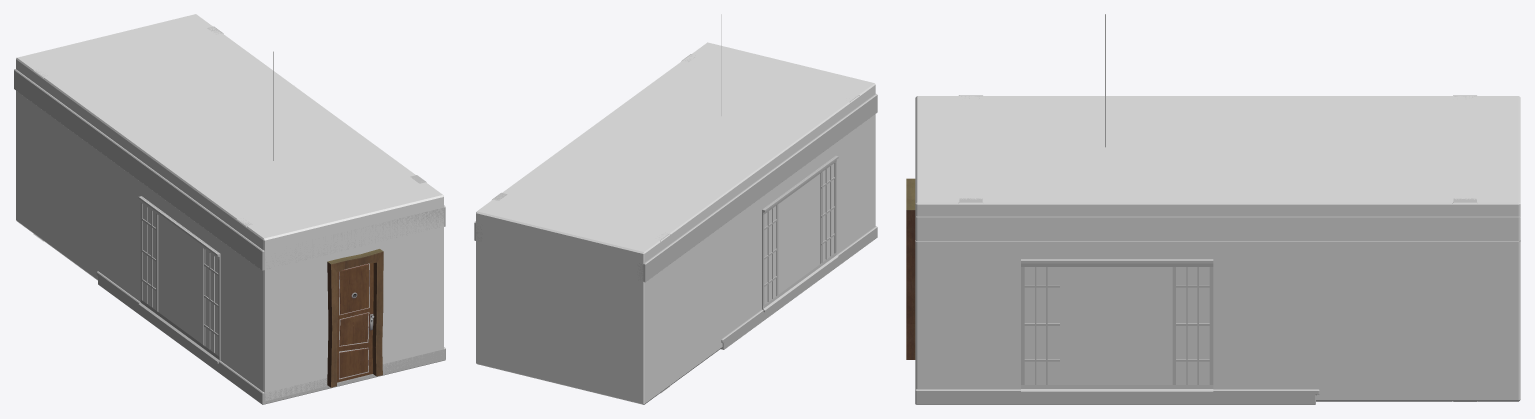
File: Entrance.fbx
3 views of the same model, side by side, from view 1: azimuth 30°, elevation 25°; view 2: azimuth 150°, elevation 25°; view 3: azimuth 270°, elevation 25° (orthographic). The views are drawn at different scales.
Parts seen in each view (by area): view 1: Entrance, Pillar Horizontal, Door.001, Cube, Door, Door Frame.001; view 2: Entrance, Pillar Horizontal, Door, Cube; view 3: Entrance, Door, Cube, Door Frame.001, Pillar Horizontal.
Boxes of the visible parts, x1=… form: Entrance: x1=16, y1=14, x2=443, y2=401; Pillar Horizontal: x1=14, y1=69, x2=445, y2=270; Door.001: x1=337, y1=263, x2=373, y2=382; Cube: x1=96, y1=271, x2=445, y2=404; Door: x1=138, y1=196, x2=220, y2=363; Door Frame.001: x1=327, y1=249, x2=383, y2=387; Entrance: x1=476, y1=42, x2=875, y2=404; Pillar Horizontal: x1=474, y1=94, x2=877, y2=282; Door: x1=762, y1=156, x2=838, y2=312; Cube: x1=720, y1=226, x2=877, y2=349; Entrance: x1=915, y1=96, x2=1520, y2=401; Door: x1=1021, y1=259, x2=1213, y2=393; Cube: x1=915, y1=389, x2=1319, y2=404; Door Frame.001: x1=906, y1=178, x2=915, y2=359; Pillar Horizontal: x1=915, y1=216, x2=1520, y2=241.
Size of the model in its own units: 2.68 by 6.27 by 3.77.
